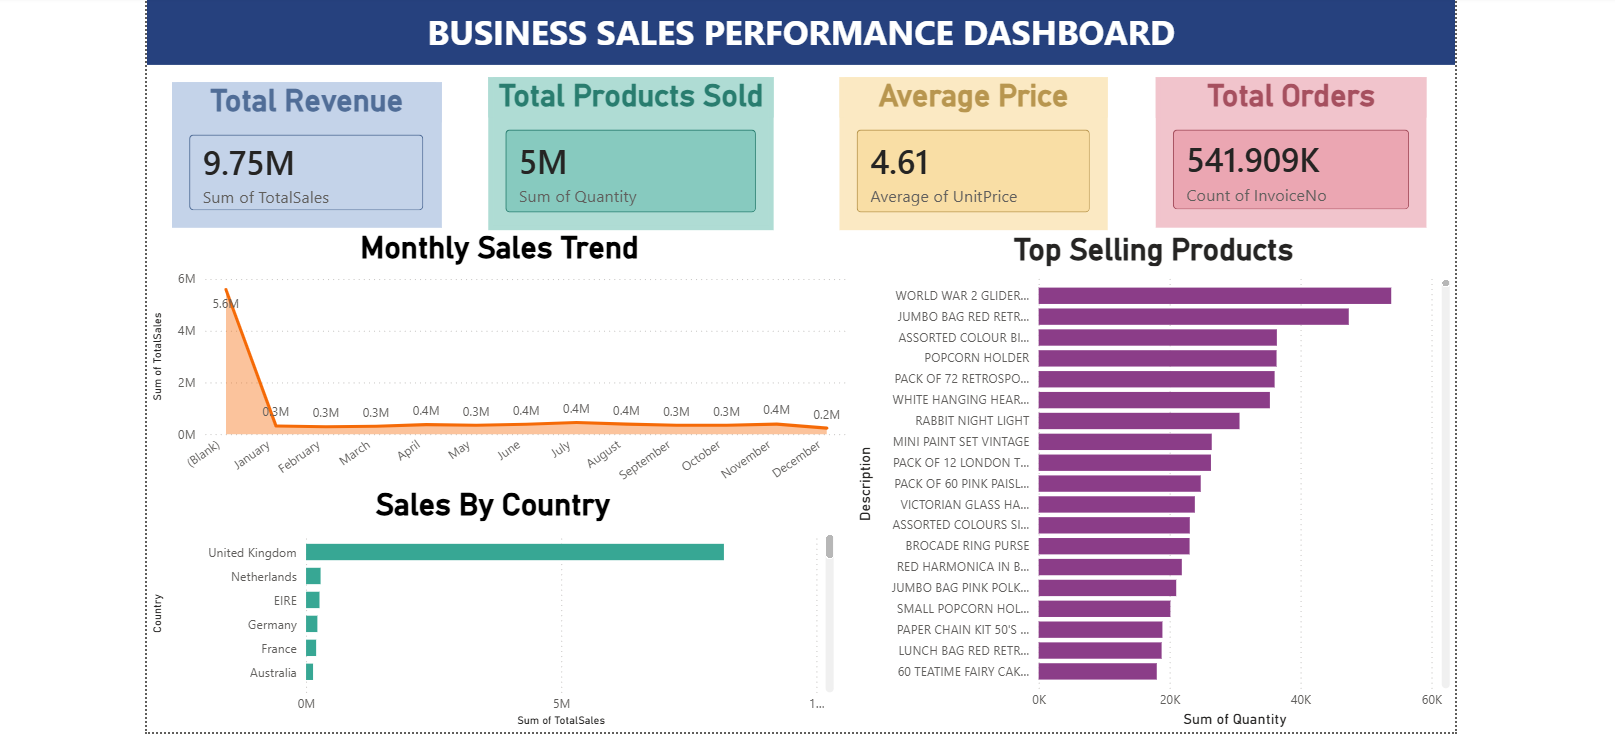

Layout of this report page (visuals, bound fields, positions):
{"tool":"powerbi","page":{"name":"Page 1","canvas":[1280,720],"ordinal":0},"visuals":[{"type":"lineChart","title":"Monthly Sales Trend","fields":{"Y":["Sum(data.TotalSales)"],"Category":["data.InvoiceDate.Variation.Date Hierarchy.Month"]},"box":[0,228.1,689.9,278],"z":1000},{"type":"clusteredBarChart","title":"Sales By Country","fields":{"Category":["data.Country"],"Y":["Sum(data.TotalSales)"]},"box":[0,478.9,677.1,240.9],"z":2000},{"type":"clusteredBarChart","title":"Top Selling Products","fields":{"Category":["data.Description"],"Y":["Sum(data.Quantity)"]},"box":[689.9,229.5,590.1,490.3],"z":3000},{"type":"cardVisual","title":"Total Revenue","fields":{"Data":["Sum(data.TotalSales)"]},"box":[24.2,84.1,263.7,142.5],"z":3001},{"type":"cardVisual","title":"Total Products Sold","fields":{"Data":["Sum(data.Quantity)"]},"box":[333.5,79.8,279.4,149.7],"z":3002},{"type":"cardVisual","title":"Average Price","fields":{"Data":["Avg(data.UnitPrice)"]},"box":[677.1,79.8,262.3,149.7],"z":3003},{"type":"cardVisual","title":"Total Orders","fields":{"Data":["CountNonNull(data.InvoiceNo)"]},"box":[986.4,79.8,265.1,146.8],"z":3004},{"type":"shape","box":[0,0,1280.3,67.3],"z":3005}]}

Visuals, with their boxes on the page's 1280x720 design canvas (x1, y1, x2, y2). These are canvas units, not pixel positions in the 1615x737 screenshot, which may show the page scaled, cropped or inside an application window:
"Monthly Sales Trend" lineChart: left=0, top=228, right=690, bottom=506
"Sales By Country" clusteredBarChart: left=0, top=479, right=677, bottom=720
"Top Selling Products" clusteredBarChart: left=690, top=230, right=1280, bottom=720
"Total Revenue" cardVisual: left=24, top=84, right=288, bottom=227
"Total Products Sold" cardVisual: left=334, top=80, right=613, bottom=230
"Average Price" cardVisual: left=677, top=80, right=939, bottom=230
"Total Orders" cardVisual: left=986, top=80, right=1252, bottom=227
shape: left=0, top=0, right=1280, bottom=67
